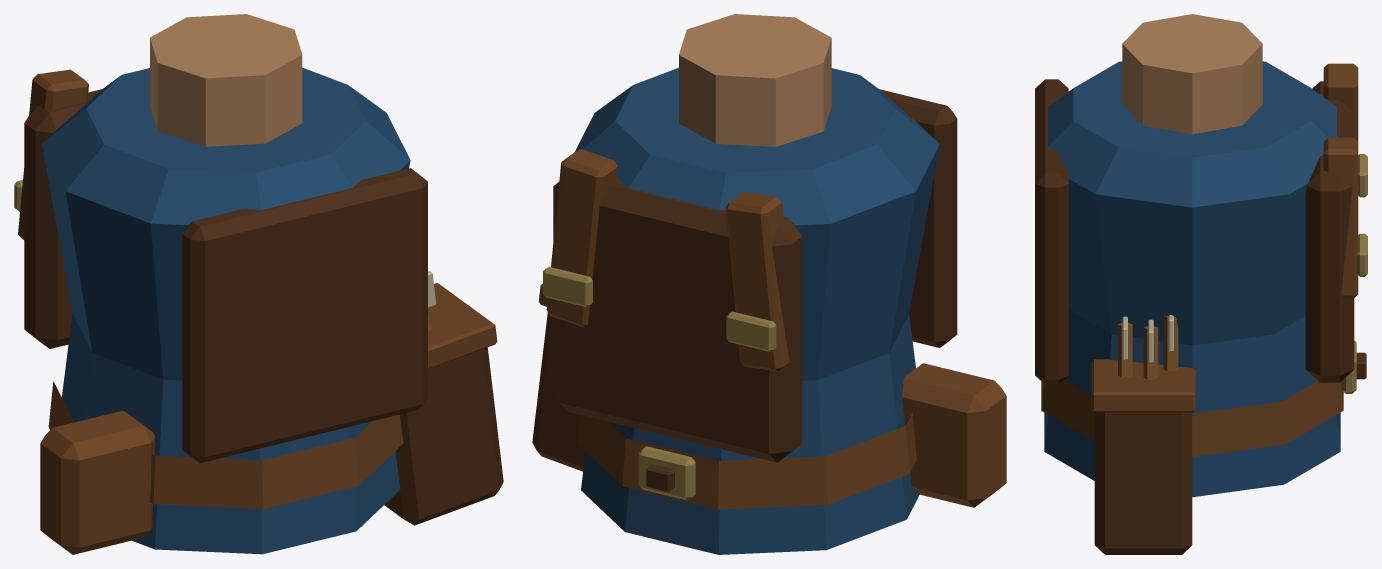
The model's file is Body.glb.
3 views of the same model, side by side, from view 1: azimuth 30°, elevation 25°; view 2: azimuth 150°, elevation 25°; view 3: azimuth 270°, elevation 25° (orthographic). The views are drawn at different scales.
Visible parts, largest first — view 1: Sculpture; view 2: Sculpture; view 3: Sculpture.
Part boxes in pixels (x1,y1,x2,y2): Sculpture: [14, 14, 503, 554]; Sculpture: [532, 14, 1006, 554]; Sculpture: [1035, 14, 1367, 554].
Bounding box in the file's own units: 0.7341 × 0.7671 × 0.5445.
